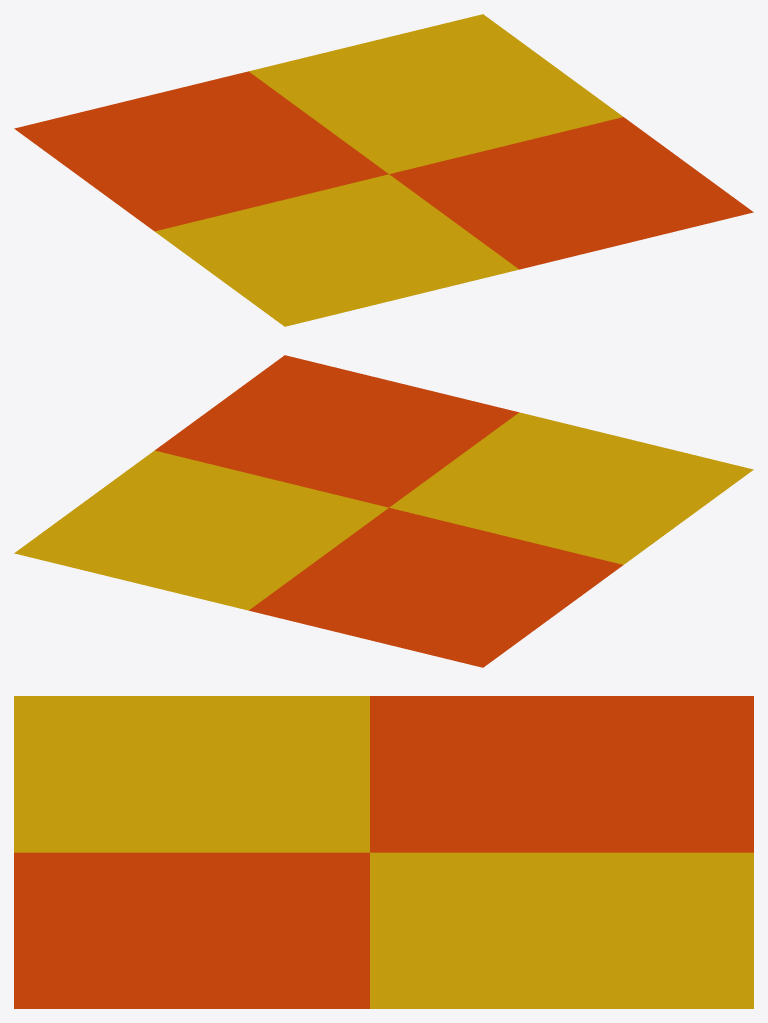
File: Base_Finish.fbx
3 views of the same model, one above another, from view 1: azimuth 30°, elevation 25°; view 2: azimuth 150°, elevation 25°; view 3: azimuth 270°, elevation 25° (orthographic). The views are drawn at different scales.
Visible parts, largest first — view 1: Base_Finish; view 2: Base_Finish; view 3: Base_Finish.
Part boxes in pixels (x1=…): Base_Finish: x1=14, y1=14, x2=753, y2=326; Base_Finish: x1=14, y1=355, x2=753, y2=667; Base_Finish: x1=14, y1=696, x2=753, y2=1008.
Bounding box in the file's own units: 2000 × 0.000305 × 2000.
